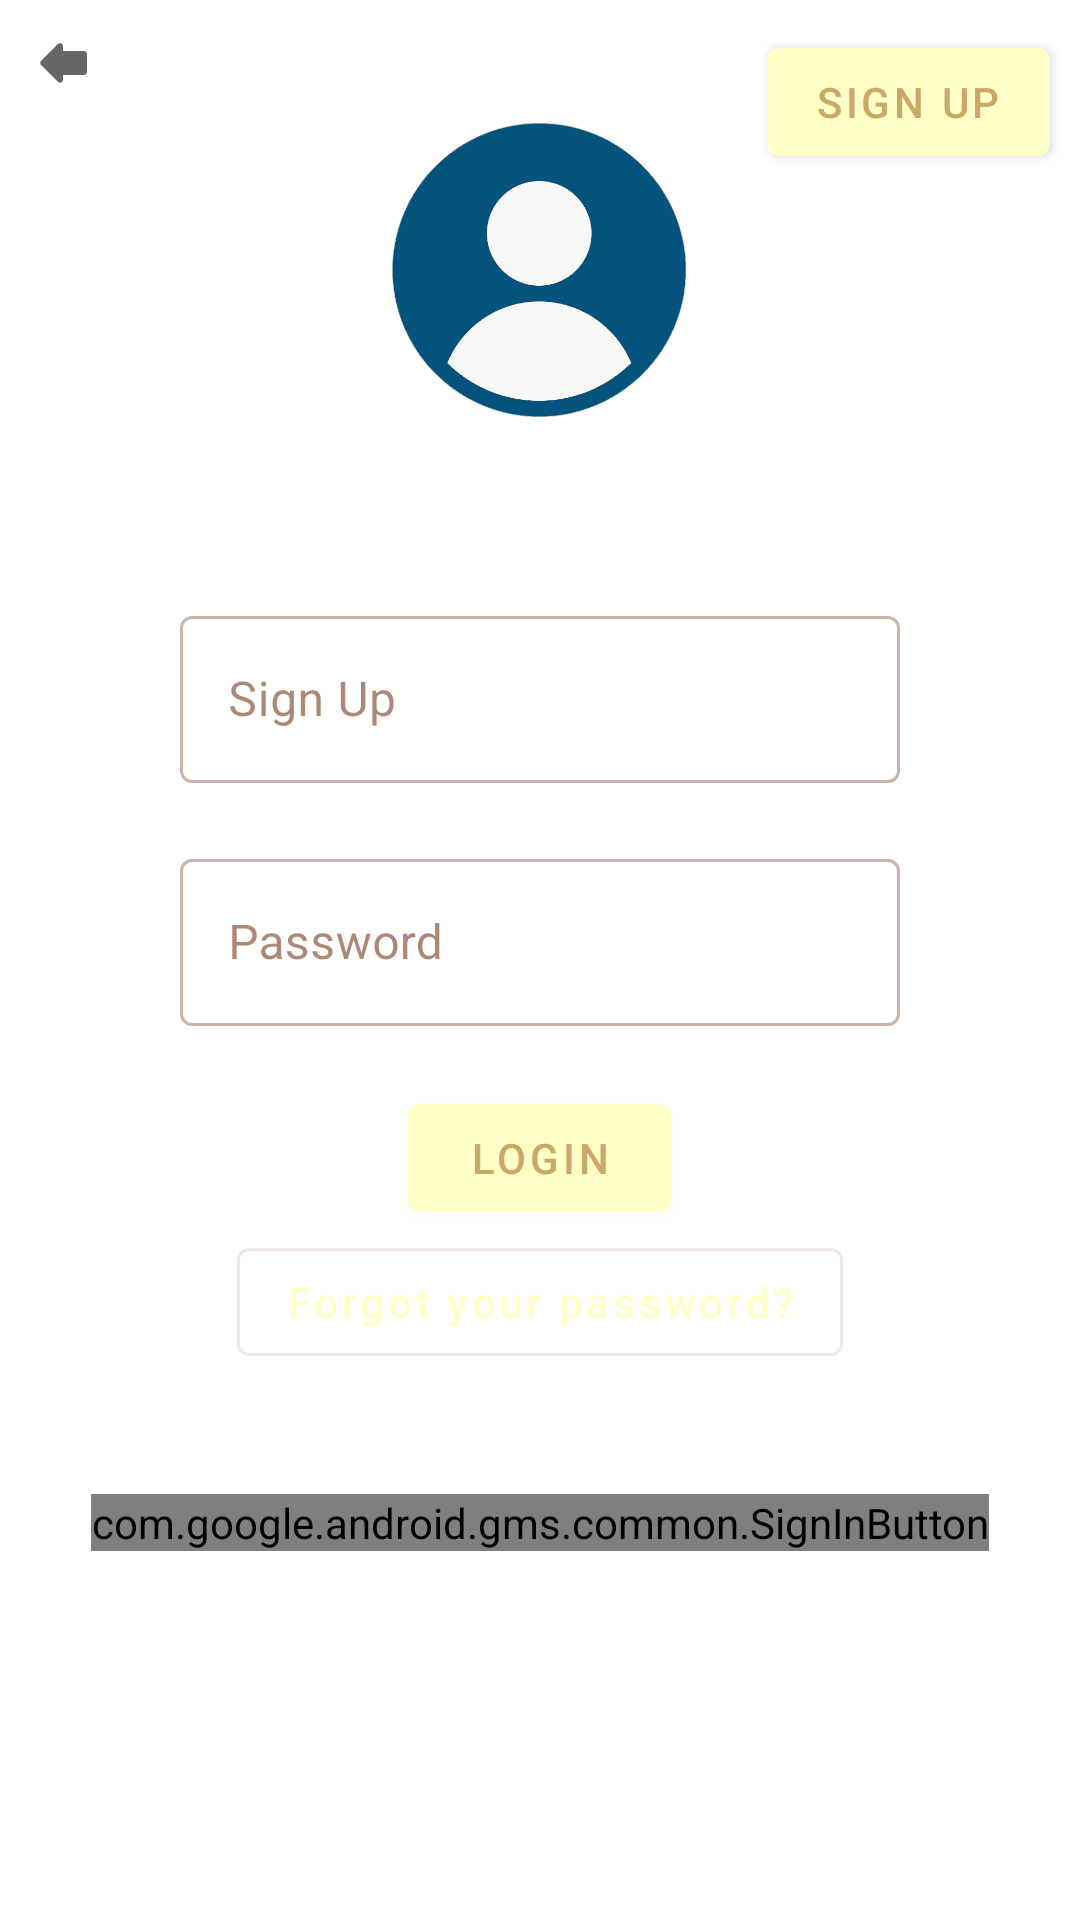

Icons on this 1080*1920 Android screen, each with its box as [x1, y1, x2, y2]:
Go Back: [40, 43, 87, 83]
